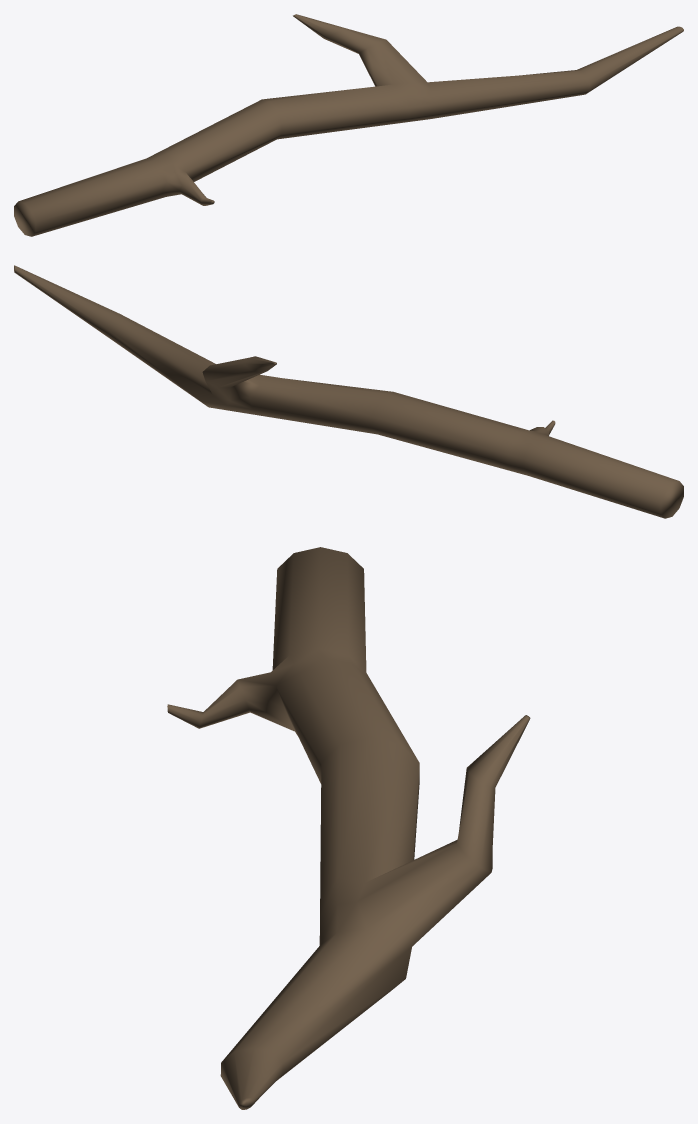
File: Galhao_2.fbx
The picture shows the model from 3 angles, top to bottom: view 1: azimuth 30°, elevation 25°; view 2: azimuth 150°, elevation 25°; view 3: azimuth 270°, elevation 25°; orthographic projection. The views are drawn at different scales.
Parts seen in each view (by area): view 1: pCylinder4; view 2: pCylinder4; view 3: pCylinder4.
Part boxes in pixels (<box>): pCylinder4: <box>14,14,683,236</box>; pCylinder4: <box>14,265,683,518</box>; pCylinder4: <box>167,547,530,1109</box>.
Bounding box in the file's own units: 39.23 × 6.13 × 9.66.
